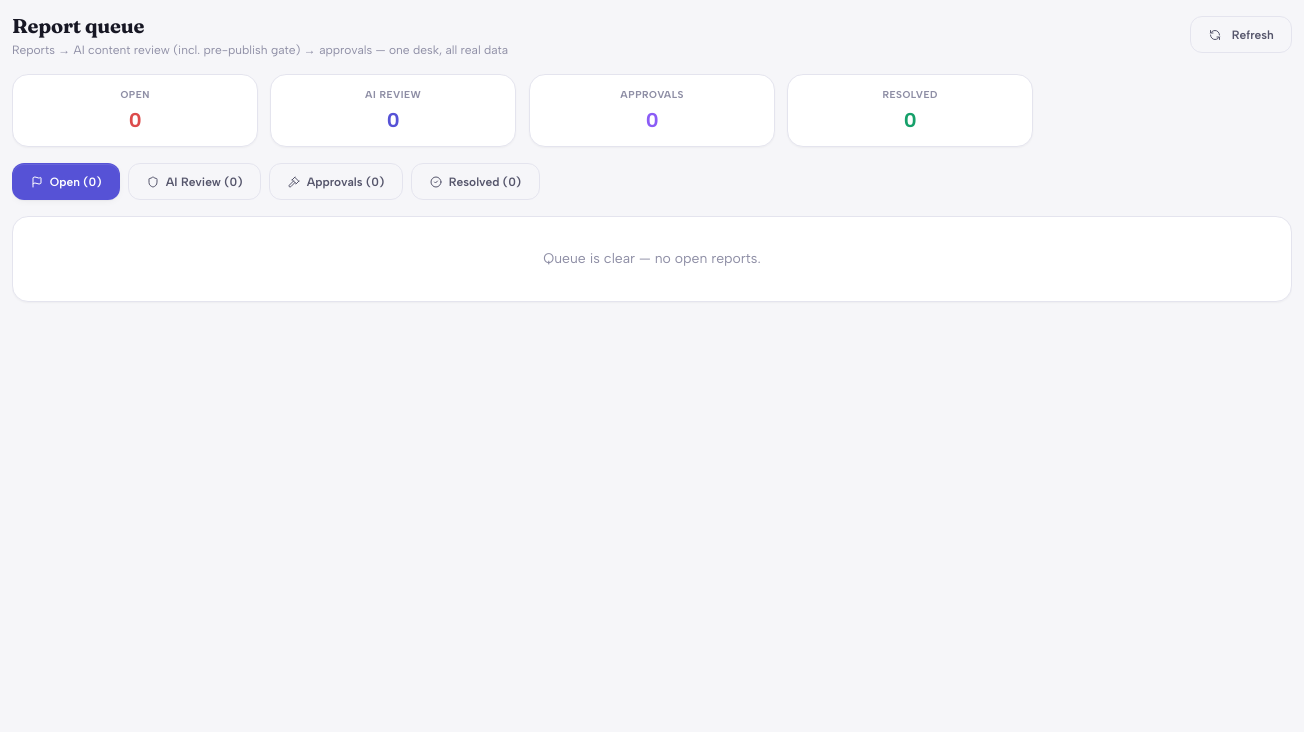
Reports (combined queue + content review + approvals) › shows truthful empty states when nothing is waiting
Check: the text "Queue is clear — no open reports." is shown, box x1=12 y1=216 x2=1292 y2=302
Click the button "AI Review (0)" at [195, 182], box x1=128 y1=163 x2=261 y2=200
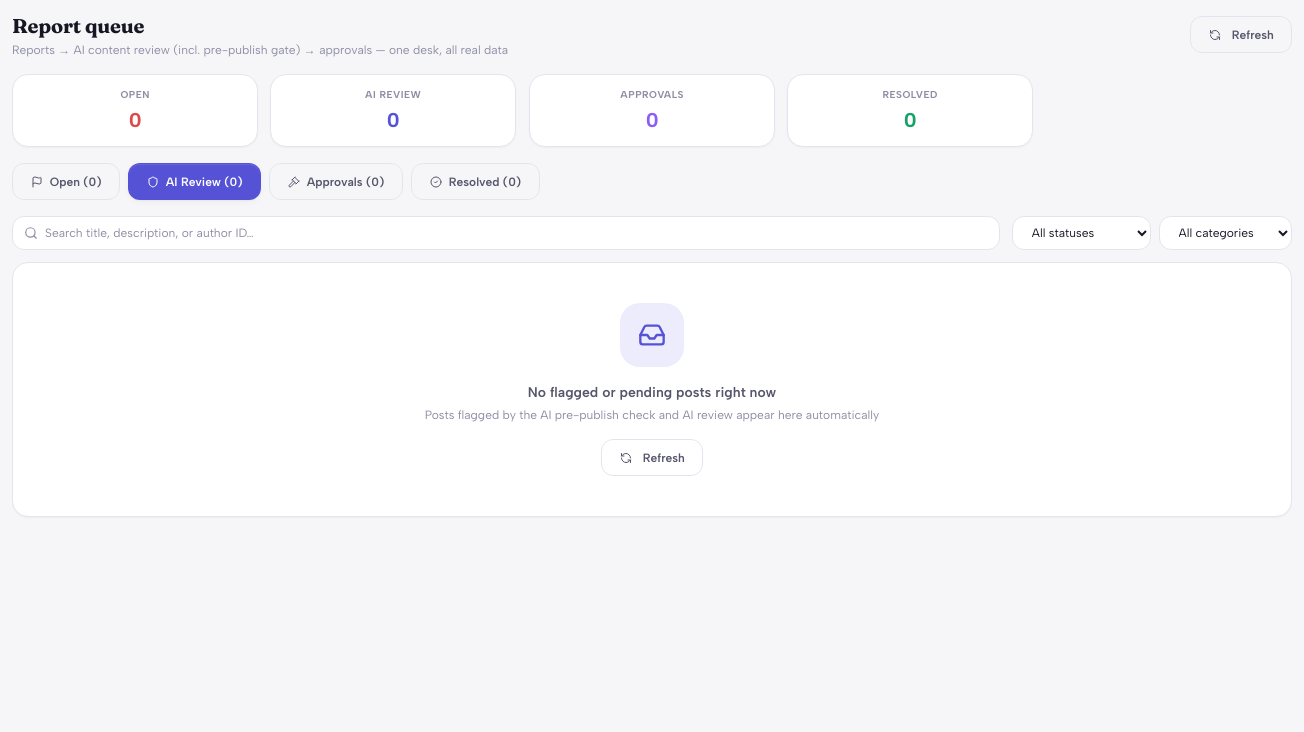
Check: the text "No flagged or pending posts right now" is shown, box x1=528 y1=384 x2=776 y2=401
Click the button "Approvals (0)" at [336, 182], box x1=269 y1=163 x2=403 y2=200
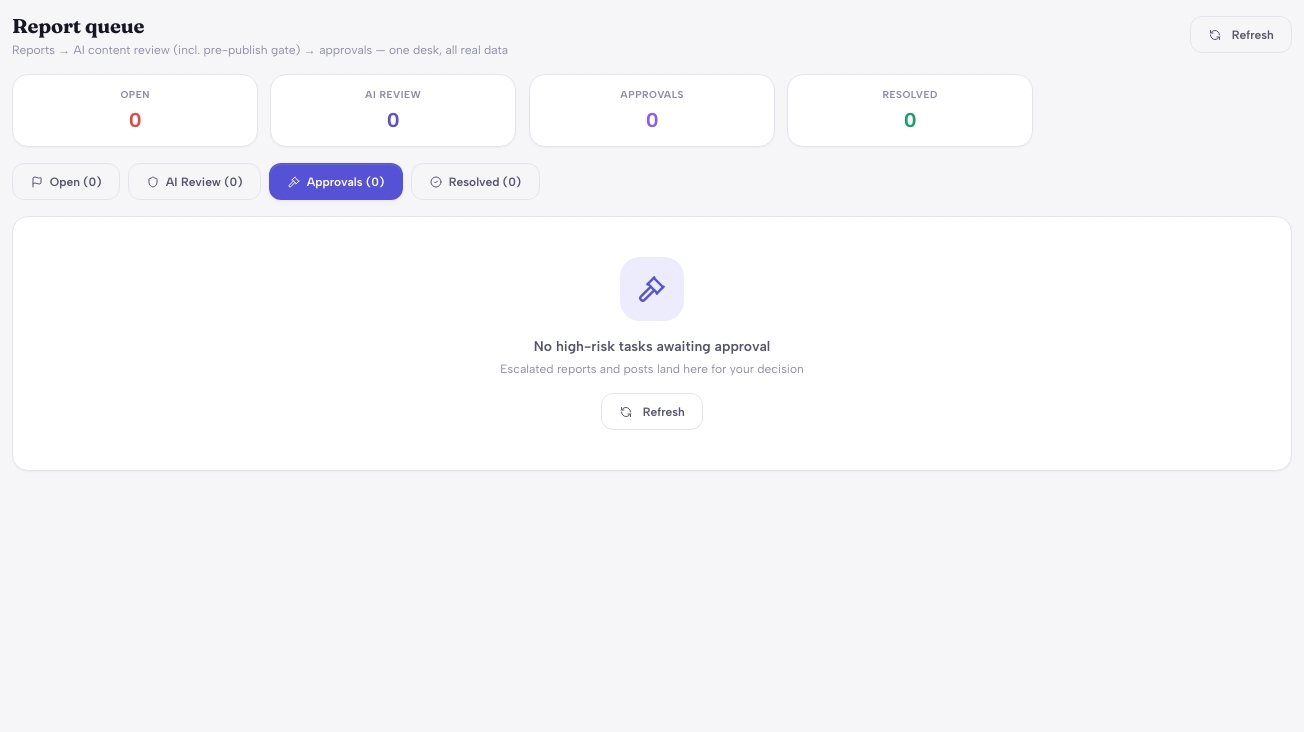
Check: the text "No high-risk tasks awaiting approval" is shown, box x1=534 y1=338 x2=770 y2=355
